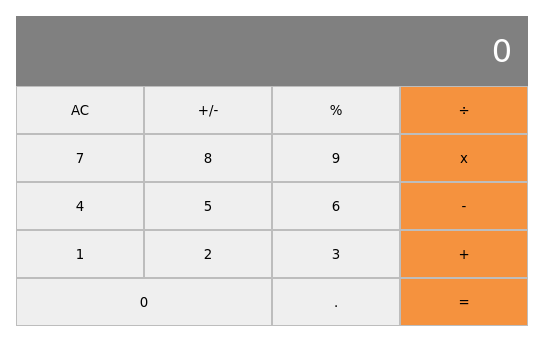
Test: Integration Testing: User interactivity › 19 should display on screen when btn 1 and then btn 9 are clicked
The image size is (540, 343).
Click the button "1" at (80, 254), box [16,230,144,278]
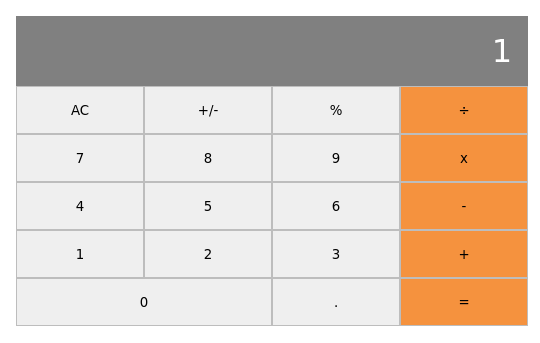
Click the button "9" at (336, 158), box [272,134,400,182]
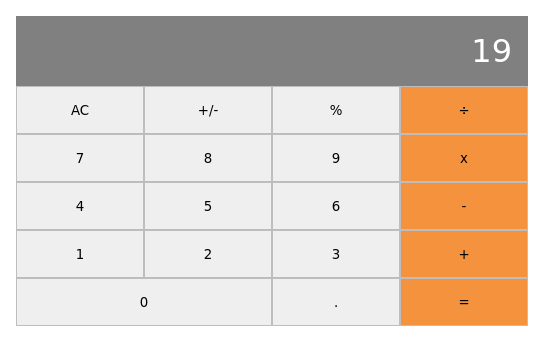
Expected: the element with test id "calc-screen" reads "19", [471,32,512,70]
